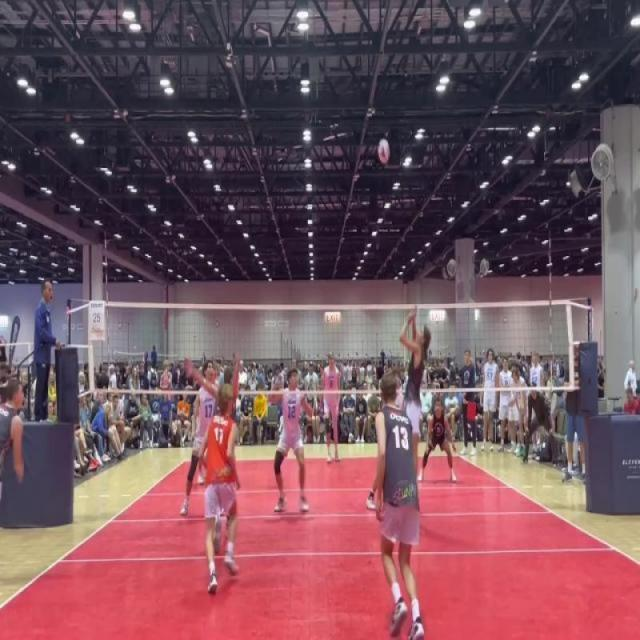volleyball: (376, 134, 392, 165)
